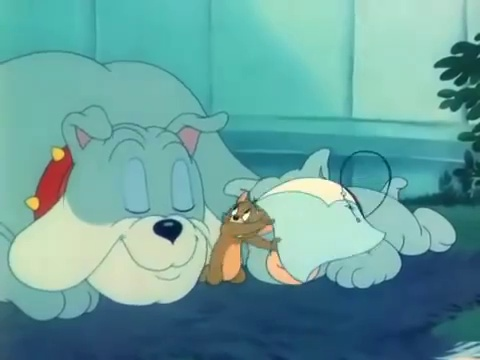spike: (7, 97, 227, 308)
